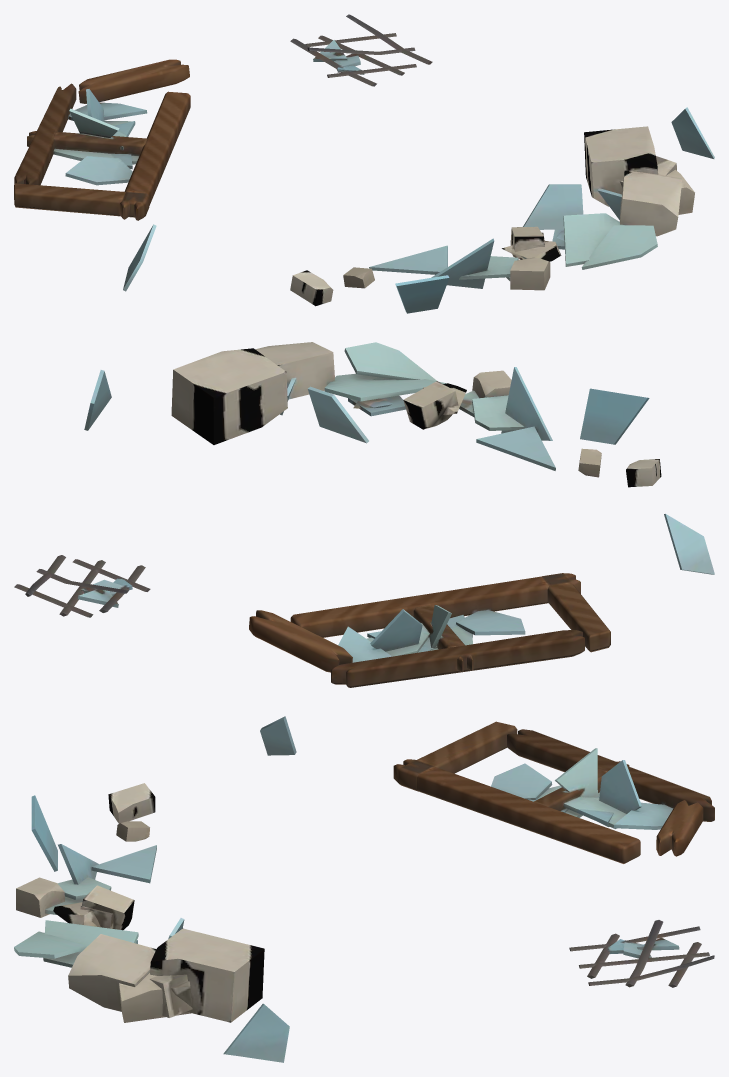
The model's file is rough-glass-2.glb.
3 views of the same model, one above another, from view 1: azimuth 30°, elevation 25°; view 2: azimuth 150°, elevation 25°; view 3: azimuth 270°, elevation 25° (orthographic). The views are drawn at different scales.
Parts seen in each view (by area): view 1: rough-glass-2; view 2: rough-glass-2; view 3: rough-glass-2.
Part boxes in pixels (bbox=[...]): rough-glass-2: bbox=[14, 14, 714, 313]; rough-glass-2: bbox=[14, 342, 714, 687]; rough-glass-2: bbox=[14, 716, 714, 1062].
Size of the model in its own units: 1.5 by 0.1486 by 1.42.
Materials: 1 (1 with a texture image).
